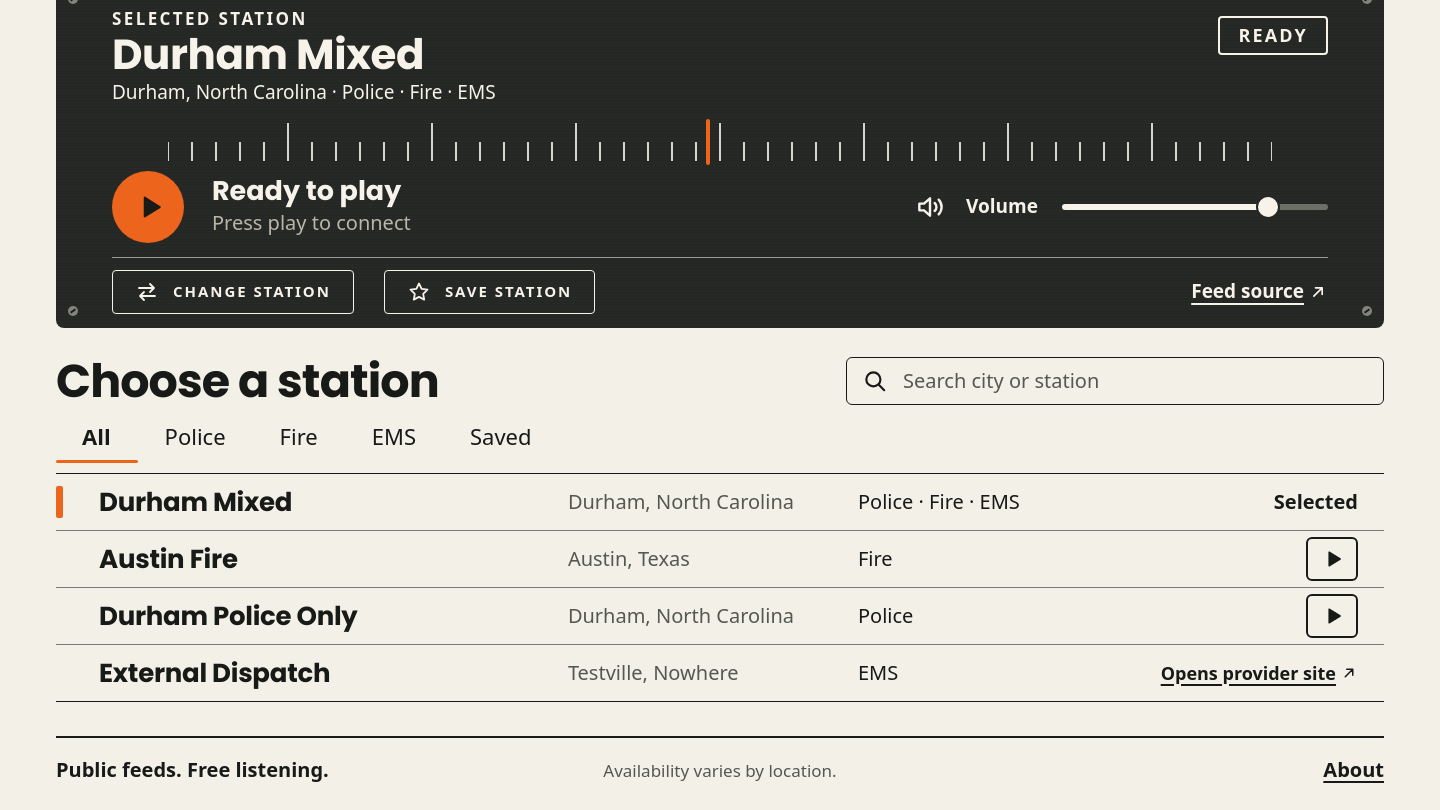
it: App › renders an external feed as a provider link, not a play button
(page scrolled)
Step 1. Click the button "External Dispatch" → click(215, 673), box [99,651,330,695]
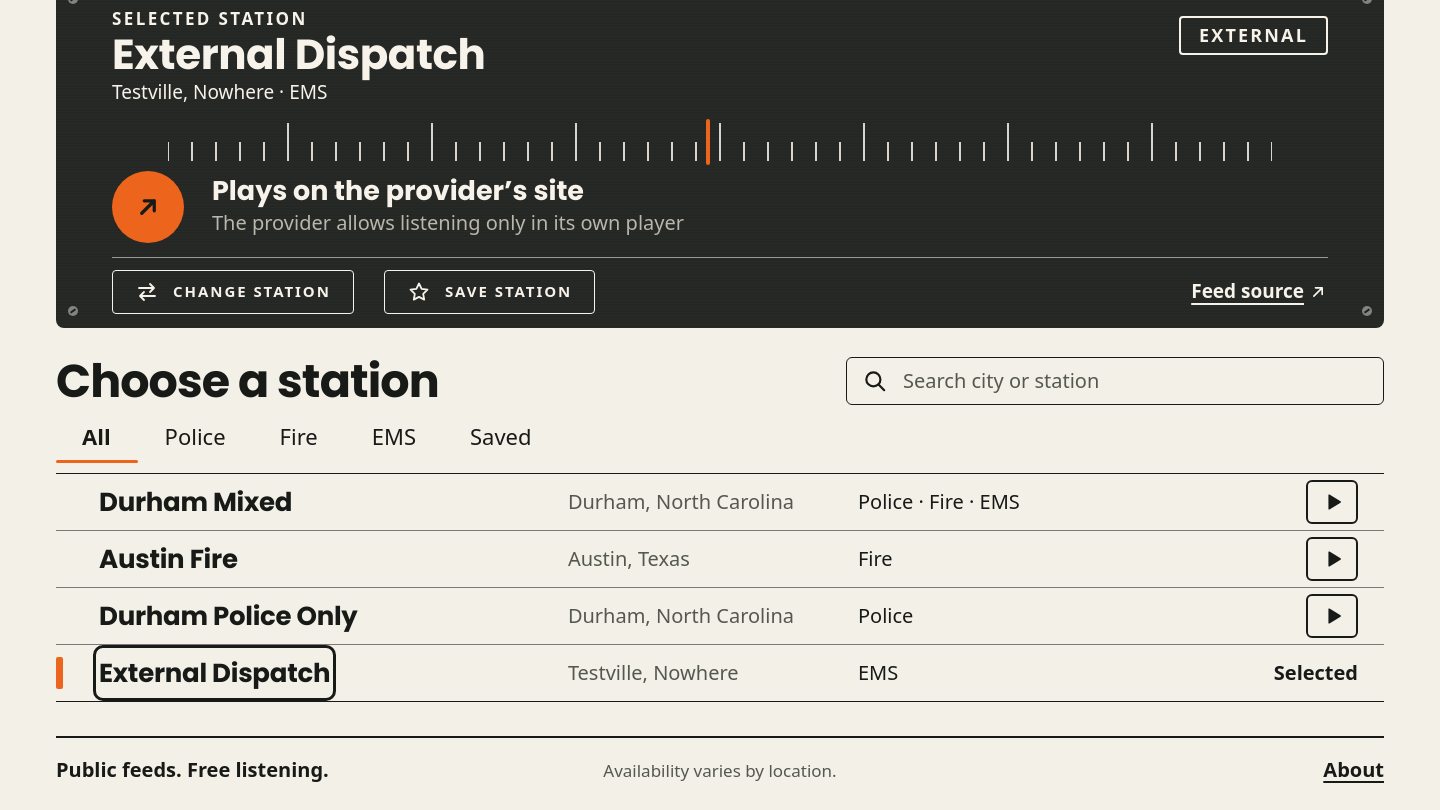
Expected: the button "Play " is not shown
Result: the text "EXTERNAL" is shown at [1179,16,1328,55]
Result: the label "Volume" is gone
